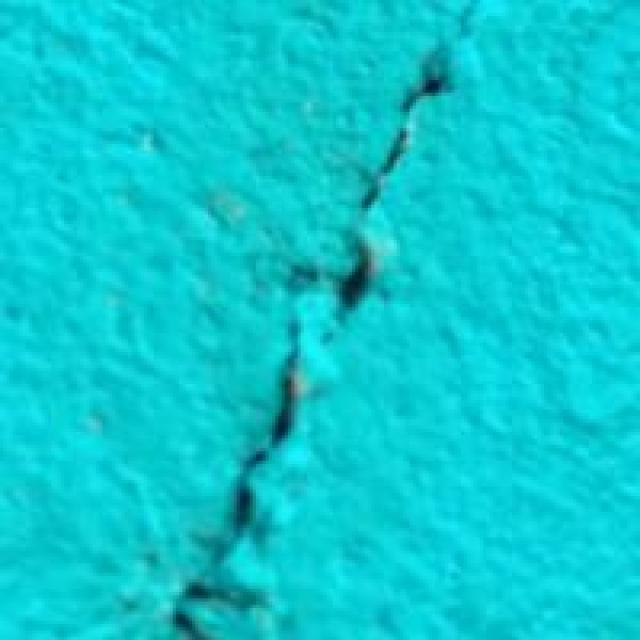Crack: (128, 0, 490, 637)
